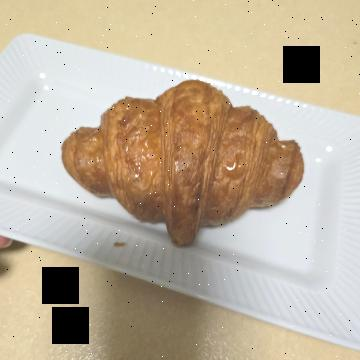croissant: (64, 40, 254, 301)
